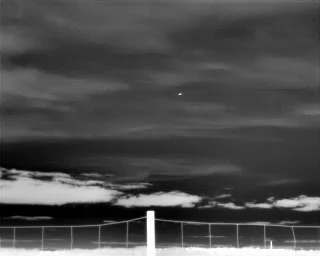AIRPLANE: (177, 90, 184, 98)
